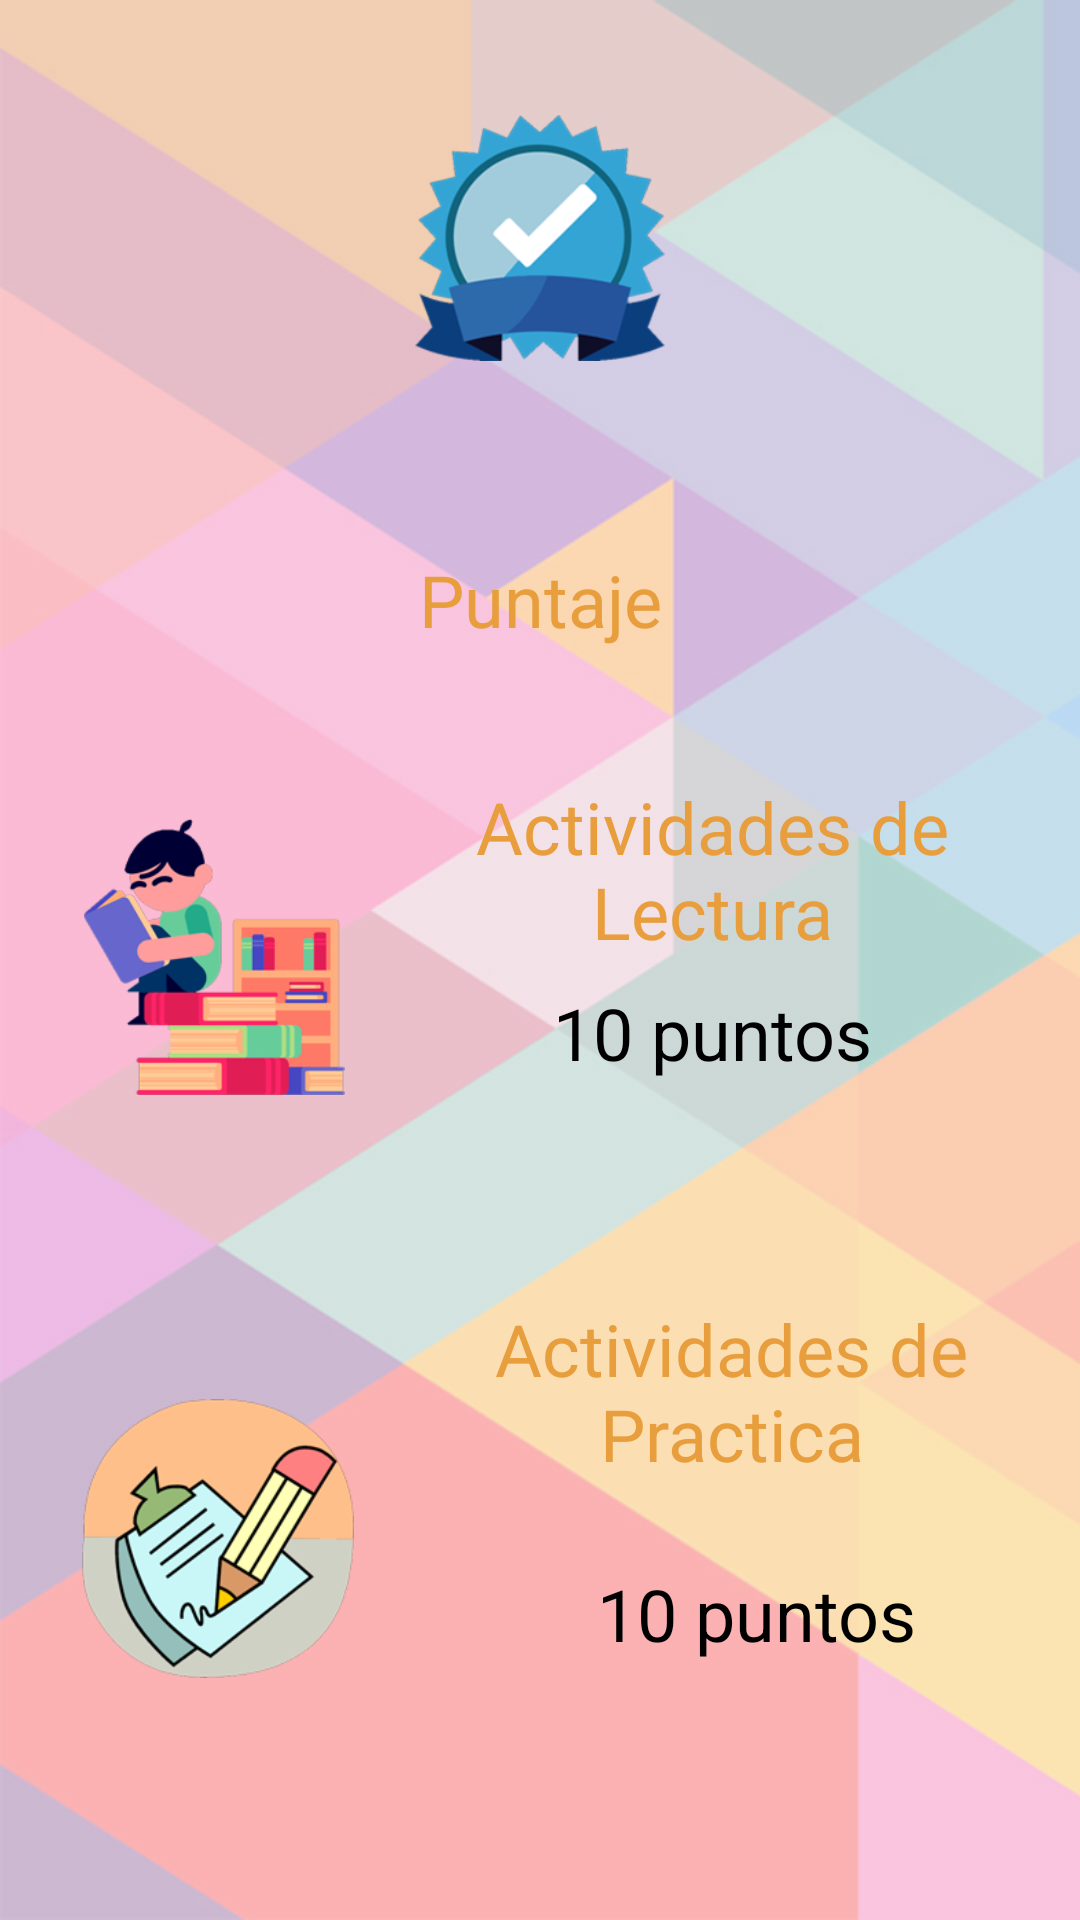

Screen size 1080px x 1920px. Icon name, then its center in pixels as point (x, y):
puntaje libros: point (214, 957)
puntaje practicas: point (203, 1538)
puntuacion: point (540, 238)
